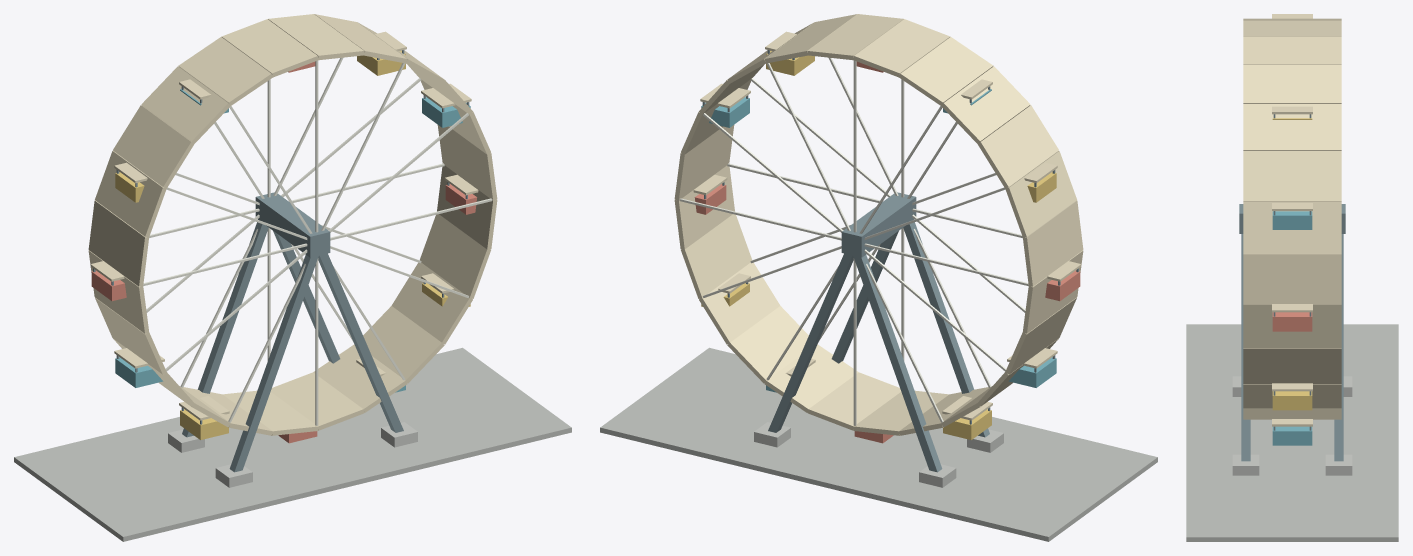
The picture shows the model from 3 angles, left to right: view 1: azimuth 30°, elevation 25°; view 2: azimuth 150°, elevation 25°; view 3: azimuth 270°, elevation 25°; orthographic projection. The views are drawn at different scales.
Bounding box in the file's own units: 38 × 33.18 × 16.
